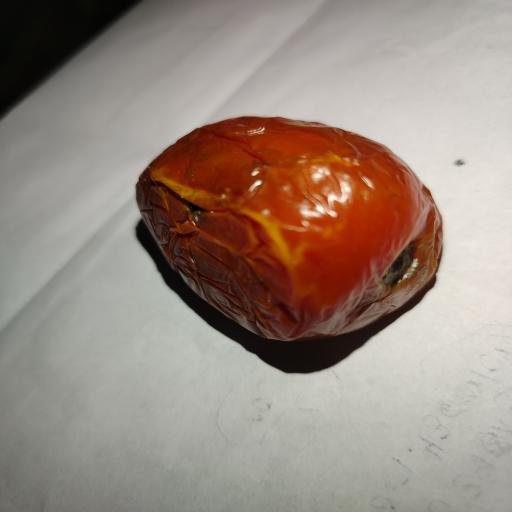spoiled: (137, 117, 442, 341)
